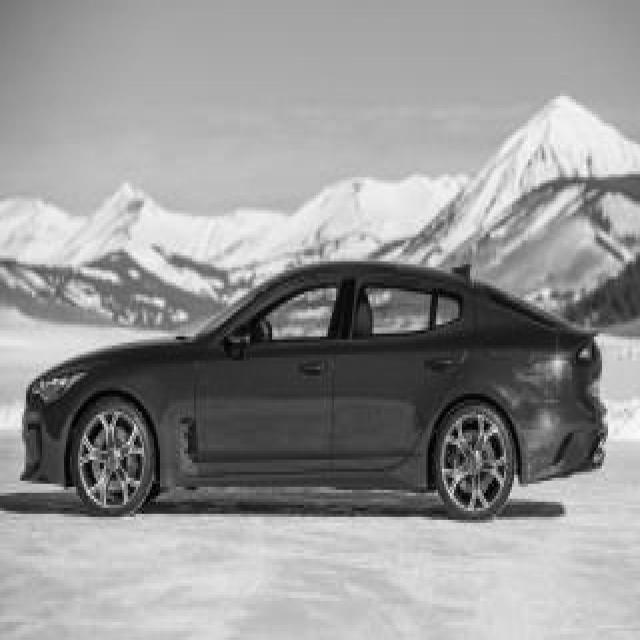Car: (22, 263, 606, 517)
